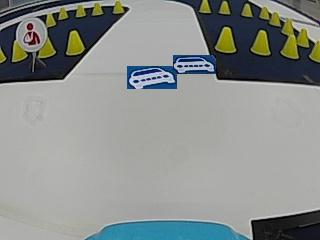cone: (215, 26, 237, 53), (251, 30, 271, 56), (66, 30, 84, 55), (282, 34, 298, 59), (38, 36, 56, 57), (12, 41, 27, 61), (309, 38, 320, 62), (297, 27, 308, 46), (281, 18, 294, 34), (111, 0, 124, 14), (218, 1, 231, 14), (45, 13, 57, 27), (241, 3, 253, 17), (199, 0, 211, 13), (91, 2, 103, 15), (269, 11, 280, 25), (259, 6, 270, 19), (75, 4, 86, 17), (58, 7, 68, 19), (0, 45, 6, 62)
patient: (17, 18, 45, 50)
